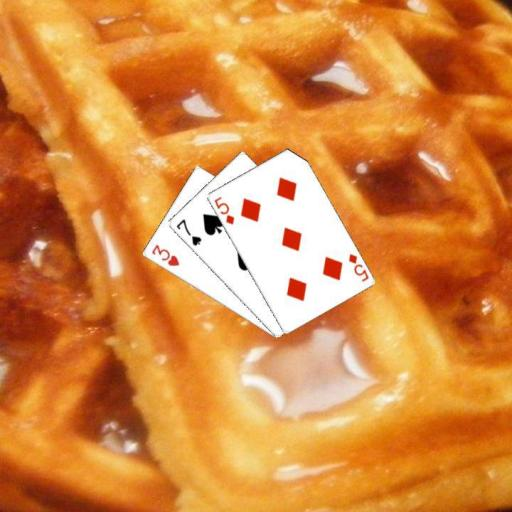3H: (148, 241, 181, 267)
5D: (345, 250, 370, 283), (211, 194, 236, 226)
7S: (173, 216, 203, 248)
